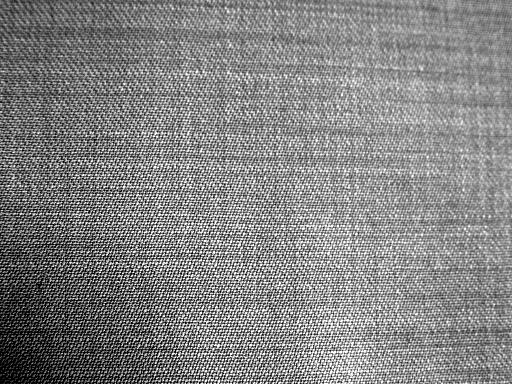fabric_perfect: (1, 0, 509, 384)
